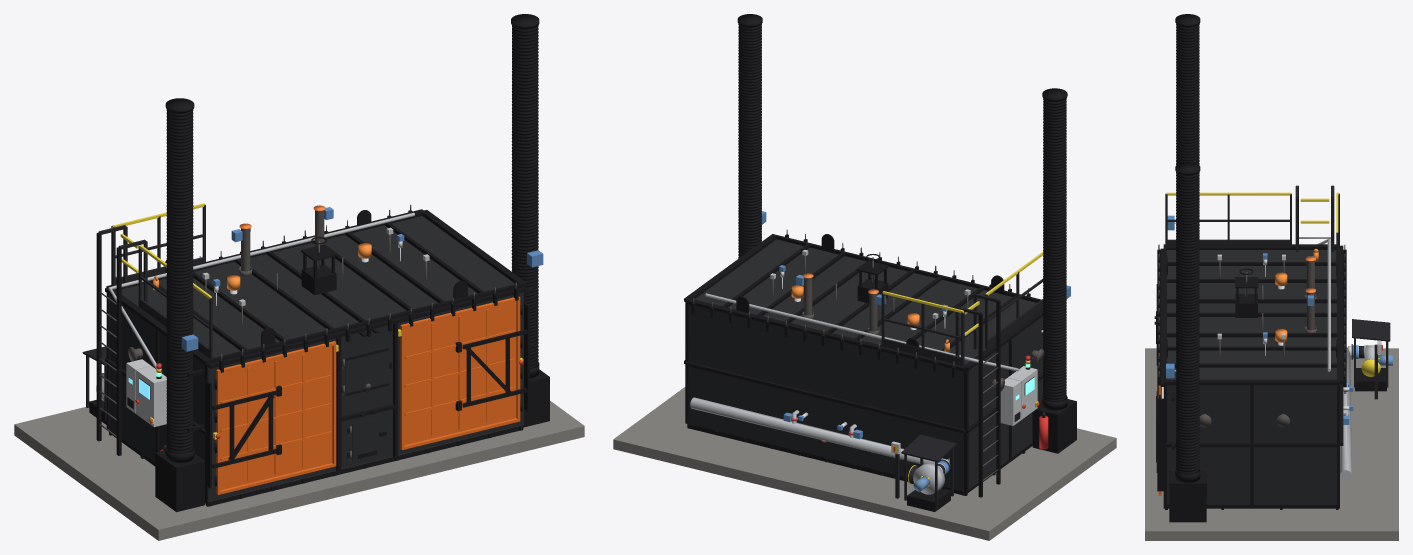
Rendered from PROMETHEY_kiln_v5.glb.
3 views of the same model, side by side, from view 1: azimuth 30°, elevation 25°; view 2: azimuth 150°, elevation 25°; view 3: azimuth 270°, elevation 25° (orthographic). The views are drawn at different scales.
Parts seen in each view (by area): view 1: Крыша_лист_5мм, Фундаментная_плита, Дверь_загрузочная_правая_ДК011-2_лис, Дверь_загрузочная_левая_ДК011-2_лист, Дымовая_труба_гофра_D420, Дымовая_труба_гофра_D420.001, Передняя_стенка_8мм, Торец_левый_5мм, Газоход_короб_350, Рама_верхняя_труба_60х60х4, Дверь_сервисная_ДС010_лист, Рама_продольная_швеллер100 (+11 smaller); view 2: Задняя_стенка_5мм, Фундаментная_плита, Крыша_лист_5мм, Дымовая_труба_гофра_D420, Дымовая_труба_гофра_D420.001, Торец_левый_5мм, Труба_подачи_кислорода_DN200.001, Газоход_короб_350, Пояс_задний_60.001, Пояс_задний_60, Рама_верхняя_труба_60х60х4, Рама_продольная_швеллер100.003 (+10 smaller); view 3: Фундаментная_плита, Торец_правый_5мм, Крыша_лист_5мм, Дымовая_труба_гофра_D420.001, Дымовая_труба_гофра_D420, Газоход_короб_350.001, Труба_подачи_кислорода_DN200.001, Безоп_Ограждение_кровли_торец_2, Пояс_торцевой_60.001, Вентилятор_козырёк, Пояс_торцевой_60.003, Крыша_балка.005 (+20 smaller).
Boxes of the visible parts, x1=… form: Крыша_лист_5мм: x1=121, y1=216, x2=515, y2=357; Фундаментная_плита: x1=14, y1=401, x2=584, y2=540; Дверь_загрузочная_правая_ДК011-2_лис: x1=400, y1=297, x2=516, y2=448; Дверь_загрузочная_левая_ДК011-2_лист: x1=216, y1=341, x2=334, y2=493; Дымовая_труба_гофра_D420: x1=166, y1=109, x2=193, y2=453; Дымовая_труба_гофра_D420.001: x1=511, y1=25, x2=538, y2=368; Передняя_стенка_8мм: x1=208, y1=292, x2=523, y2=501; Торец_левый_5мм: x1=110, y1=295, x2=204, y2=462; Газоход_короб_350: x1=155, y1=450, x2=205, y2=512; Рама_верхняя_труба_60х60х4: x1=207, y1=282, x2=523, y2=363; Дверь_сервисная_ДС010_лист: x1=345, y1=346, x2=389, y2=396; Рама_продольная_швеллер100: x1=206, y1=425, x2=523, y2=506; Задняя_стенка_5мм: x1=686, y1=304, x2=963, y2=490; Фундаментная_плита: x1=613, y1=387, x2=1116, y2=540; Крыша_лист_5мм: x1=694, y1=239, x2=1036, y2=364; Дымовая_труба_гофра_D420: x1=1043, y1=98, x2=1066, y2=401; Дымовая_труба_гофра_D420.001: x1=738, y1=24, x2=761, y2=258; Торец_левый_5мм: x1=968, y1=316, x2=1043, y2=488; Труба_подачи_кислорода_DN200.001: x1=690, y1=397, x2=949, y2=463; Газоход_короб_350: x1=1032, y1=399, x2=1076, y2=453; Пояс_задний_60.001: x1=685, y1=361, x2=965, y2=433; Пояс_задний_60: x1=685, y1=299, x2=965, y2=371; Рама_верхняя_труба_60х60х4: x1=774, y1=234, x2=1041, y2=302; Рама_продольная_швеллер100.003: x1=687, y1=424, x2=967, y2=495; Фундаментная_плита: x1=1145, y1=348, x2=1398, y2=540; Торец_правый_5мм: x1=1167, y1=385, x2=1336, y2=504; Крыша_лист_5мм: x1=1167, y1=250, x2=1336, y2=379; Дымовая_труба_гофра_D420.001: x1=1176, y1=172, x2=1199, y2=474; Дымовая_труба_гофра_D420: x1=1176, y1=24, x2=1199, y2=237; Газоход_короб_350.001: x1=1169, y1=471, x2=1206, y2=522; Труба_подачи_кислорода_DN200.001: x1=1340, y1=347, x2=1351, y2=480; Безоп_Ограждение_кровли_торец_2: x1=1167, y1=239, x2=1289, y2=247; Пояс_торцевой_60.001: x1=1163, y1=381, x2=1339, y2=385; Вентилятор_козырёк: x1=1352, y1=319, x2=1390, y2=341; Пояс_торцевой_60.003: x1=1163, y1=443, x2=1339, y2=447; Крыша_балка.005: x1=1168, y1=346, x2=1335, y2=350.
Bounding box in the file's own units: 8.1 × 7.41 × 4.75.
